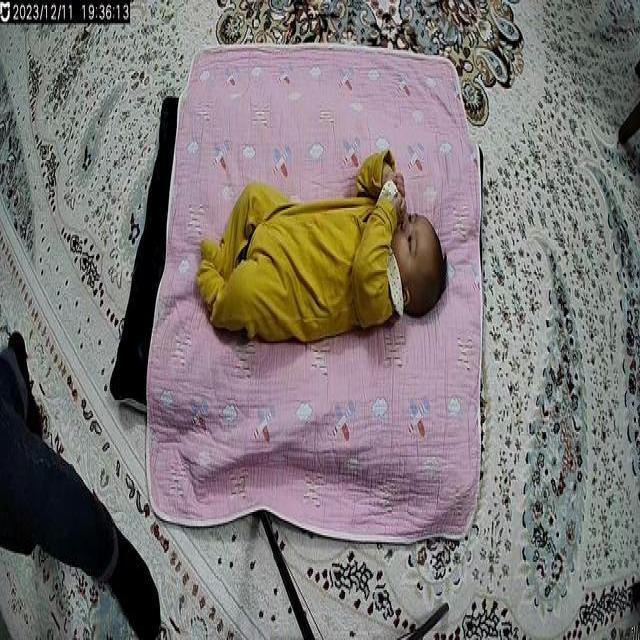baby: (197, 146, 450, 359)
